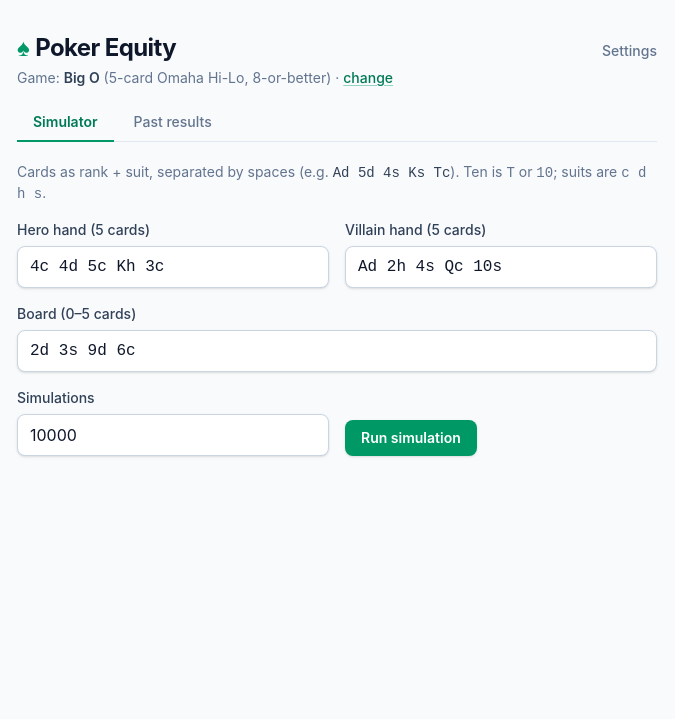
Scenario: an anonymous run offers a login prompt instead of a save button
Replace the text in the number field labelled "Simulations" with "50" at (173, 435), box [17,414,329,456]
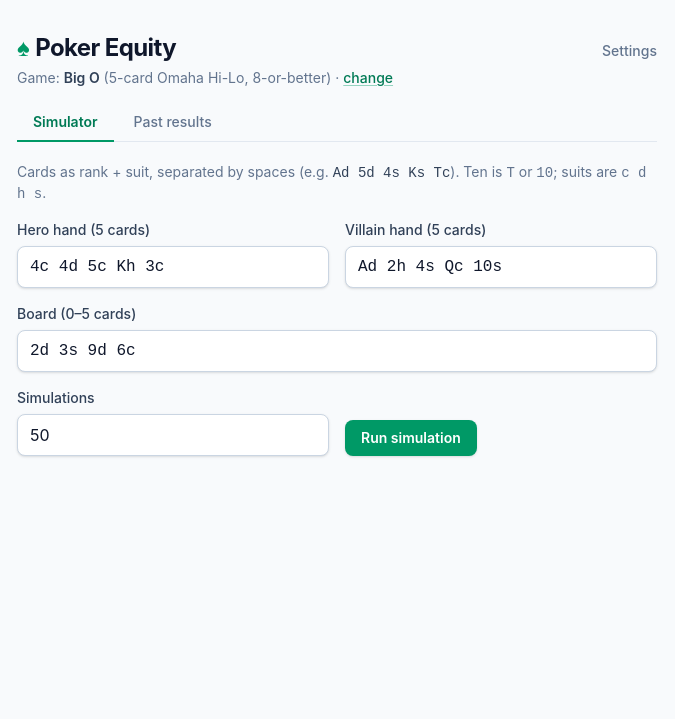
Click the button "Run simulation" at (411, 438), box [345,420,477,456]
(page scrolled)
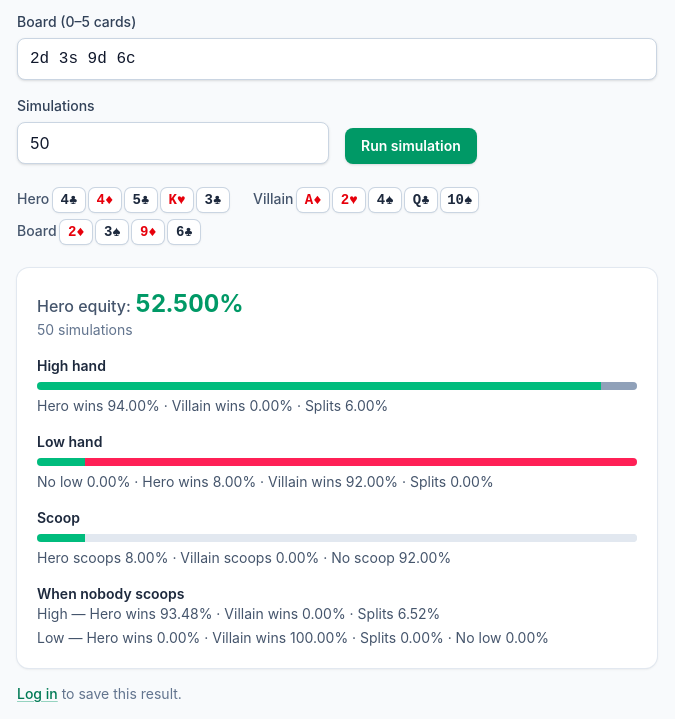
Expected: the heading "Hero equity: 52.500%" is shown, [37,289,244,318]
Expected: the text "Log in to save this result." is shown, [17,685,182,702]
